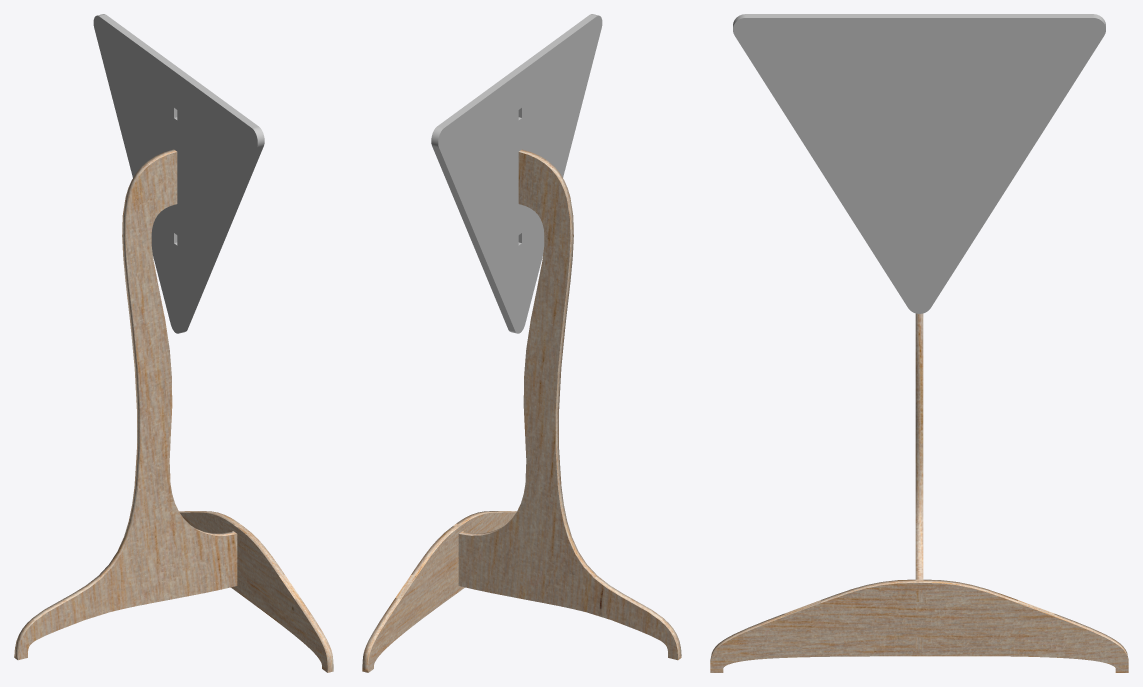
Rendered from VorfahrtGewaehren.dae.
3 views of the same model, side by side, from view 1: azimuth 30°, elevation 25°; view 2: azimuth 150°, elevation 25°; view 3: azimuth 270°, elevation 25° (orthographic). The views are drawn at different scales.
Parts seen in each view (by area): view 1: Body1, Body1_2_001, Body1_1; view 2: Body1, Body1_2_001, Body1_1; view 3: Body1_2_001, Body1_1, Body1.
Part boxes in pixels (x1,y1,x2,y2): Body1: (14, 149, 237, 660); Body1_2_001: (93, 14, 264, 333); Body1_1: (179, 511, 333, 672); Body1: (458, 149, 681, 660); Body1_2_001: (431, 14, 602, 333); Body1_1: (362, 511, 516, 672); Body1_2_001: (733, 14, 1105, 313); Body1_1: (710, 579, 1128, 672); Body1: (915, 313, 923, 649).
Size of the model in its own units: 113 by 160 by 263.
